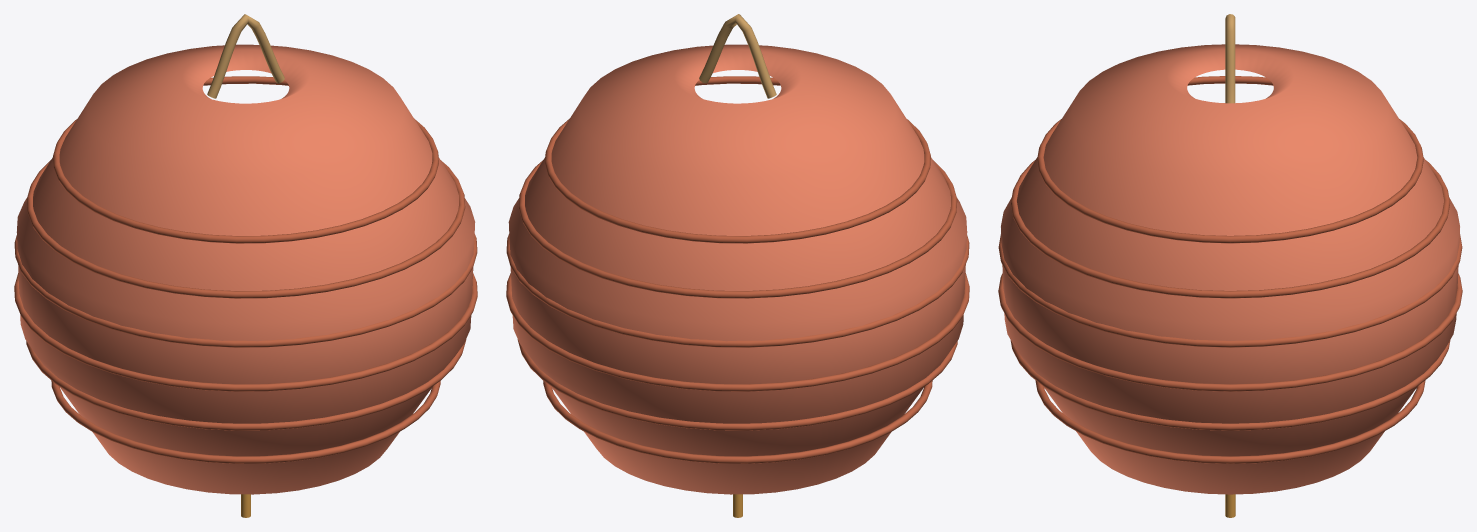
File: paper-lantern-858811be235c.glb
3 views of the same model, side by side, from view 1: azimuth 30°, elevation 25°; view 2: azimuth 150°, elevation 25°; view 3: azimuth 270°, elevation 25° (orthographic).
Visible parts, largest first — view 1: surface_coral, surface_terracotta, surface_brass; view 2: surface_coral, surface_terracotta, surface_brass; view 3: surface_coral, surface_terracotta, surface_brass.
Boxes of the visible parts, <box> form: surface_coral: <box>16,44,475,494</box>; surface_terracotta: <box>14,76,477,463</box>; surface_brass: <box>207,14,284,98</box>; surface_coral: <box>508,44,967,494</box>; surface_terracotta: <box>506,76,969,463</box>; surface_brass: <box>699,14,776,98</box>; surface_coral: <box>1001,44,1459,494</box>; surface_terracotta: <box>998,76,1462,463</box>; surface_brass: <box>1225,14,1235,103</box>.
Size of the model in its own units: 0.364 by 0.4339 by 0.364.
